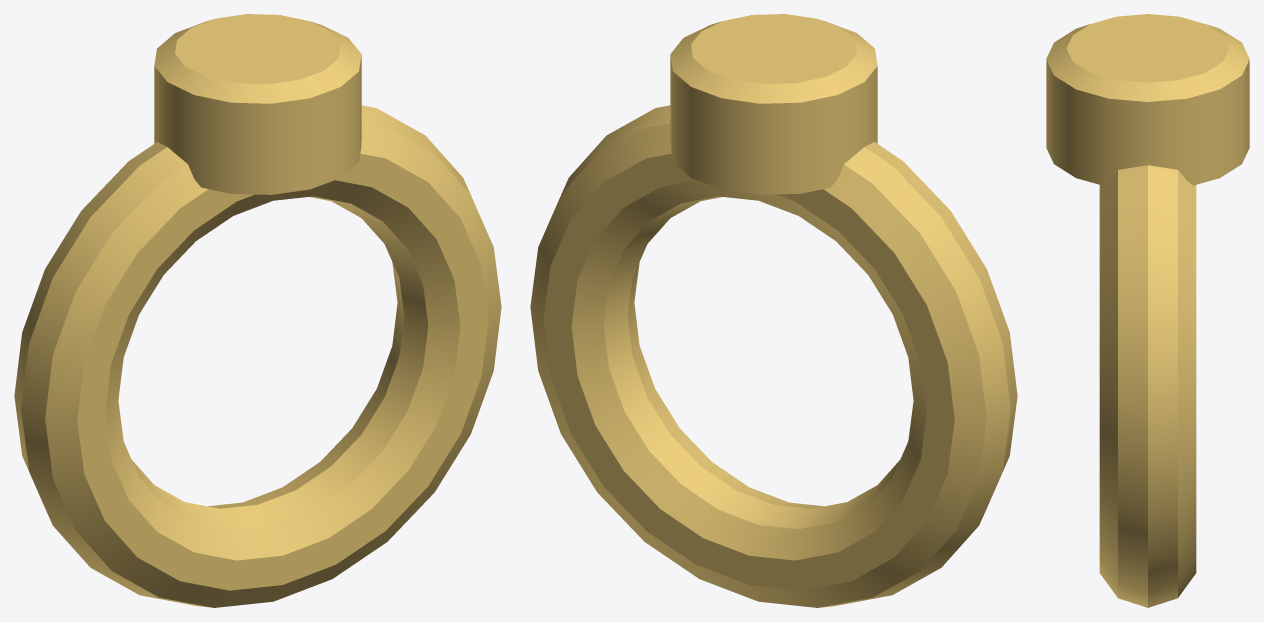
File: Ring.gltf
The picture shows the model from 3 angles, left to right: view 1: azimuth 30°, elevation 25°; view 2: azimuth 150°, elevation 25°; view 3: azimuth 270°, elevation 25°; orthographic projection. The views are drawn at different scales.
Size of the model in its own units: 0.136 by 0.151 by 0.052.
